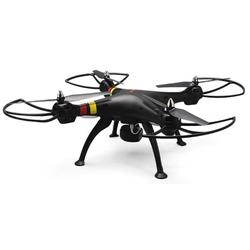drone: (2, 68, 246, 181)
